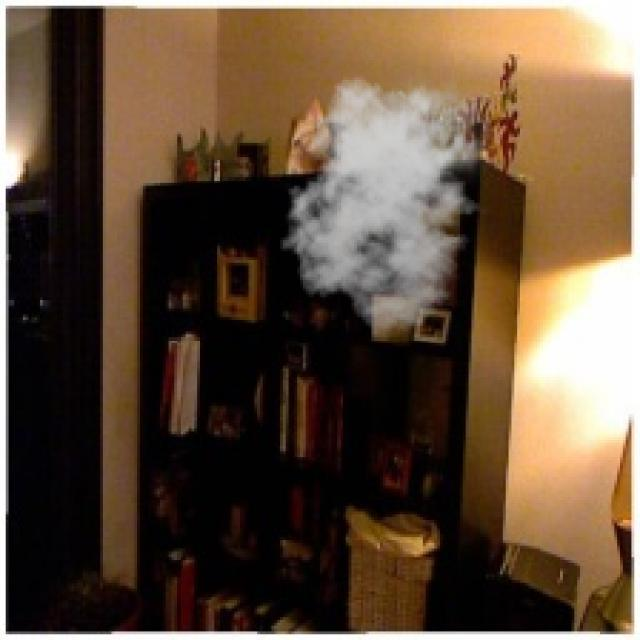Smoke: (280, 68, 494, 332)
